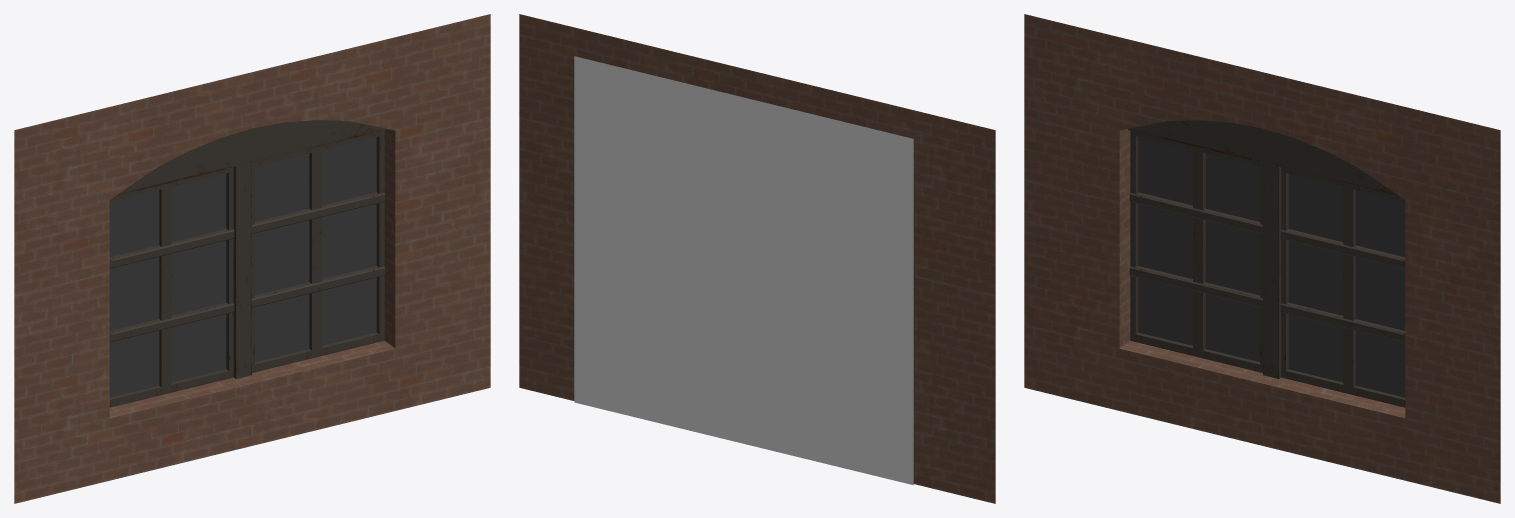
File: UpperLayer_Window_CurvedDouble.fbx
3 renders of one model, left to right at view 1: azimuth 30°, elevation 25°; view 2: azimuth 150°, elevation 25°; view 3: azimuth 330°, elevation 25°, orthographic.
Parts seen in each view (by area): view 1: UpperLayer_Window_CurvedDouble; view 2: UpperLayer_Window_CurvedDouble; view 3: UpperLayer_Window_CurvedDouble.
Boxes of the visible parts, left/top/right/bottom form: UpperLayer_Window_CurvedDouble: left=14, top=14, right=490, bottom=503; UpperLayer_Window_CurvedDouble: left=519, top=14, right=995, bottom=503; UpperLayer_Window_CurvedDouble: left=1024, top=14, right=1500, bottom=503.
Bounding box in the file's own units: 400 × 300 × 19.7.
